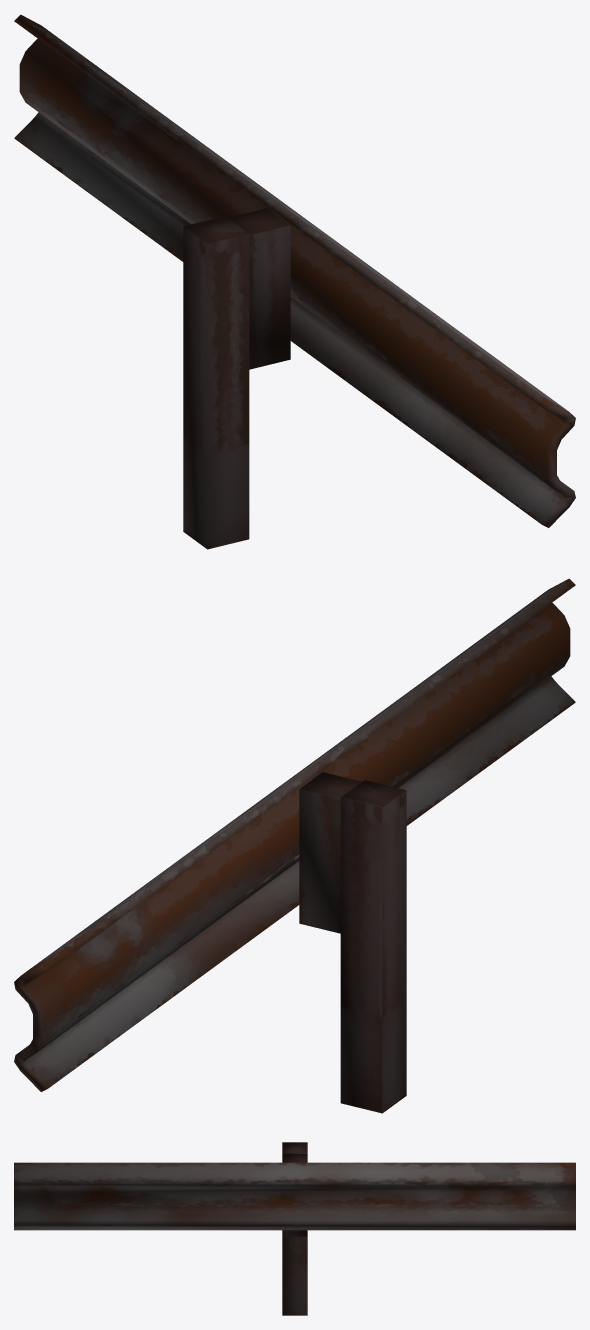
Rendered from Segment#1(Straight).fbx.
3 renders of one model, top to bottom at view 1: azimuth 30°, elevation 25°; view 2: azimuth 150°, elevation 25°; view 3: azimuth 270°, elevation 25°, orthographic. The views are drawn at different scales.
Parts seen in each view (by area): view 1: Cube.001; view 2: Cube.001; view 3: Cube.001.
Part boxes in pixels (left/top/right/bottom): Cube.001: left=14, top=14, right=575, bottom=549; Cube.001: left=14, top=578, right=575, bottom=1113; Cube.001: left=14, top=1142, right=575, bottom=1315.
Size of the model in its own units: 34.16 by 87.18 by 268.
